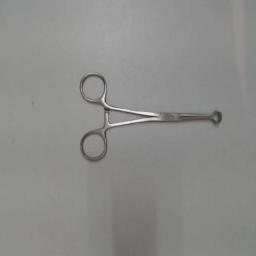Babcock Tissue Forceps: (76, 68, 224, 166)
